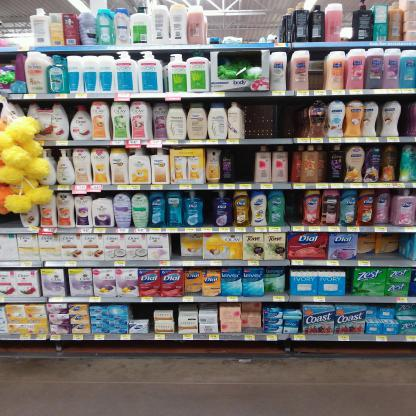Void: (210, 5, 284, 37), (244, 104, 300, 140), (364, 235, 405, 260), (285, 189, 307, 224), (230, 148, 252, 181), (129, 305, 148, 319), (170, 235, 181, 258), (1, 215, 19, 227), (155, 302, 182, 310)
